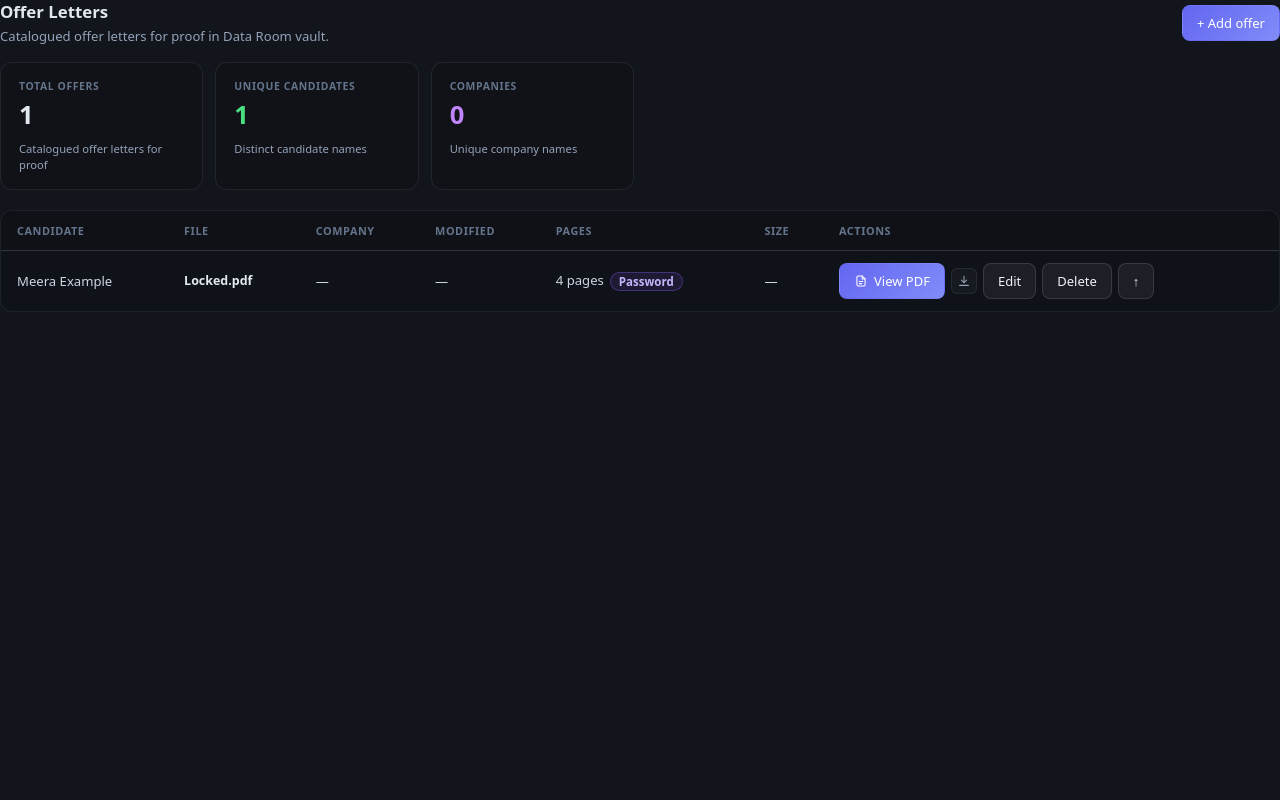
Test case: a PDF uploaded with a password › asks for it, says when it is wrong, and then shows every page
The width and height of the screenshot is (1280, 800).
Click the button with aria-label "View PDF for Meera Example" at (892, 280), box [839,262,945,298]
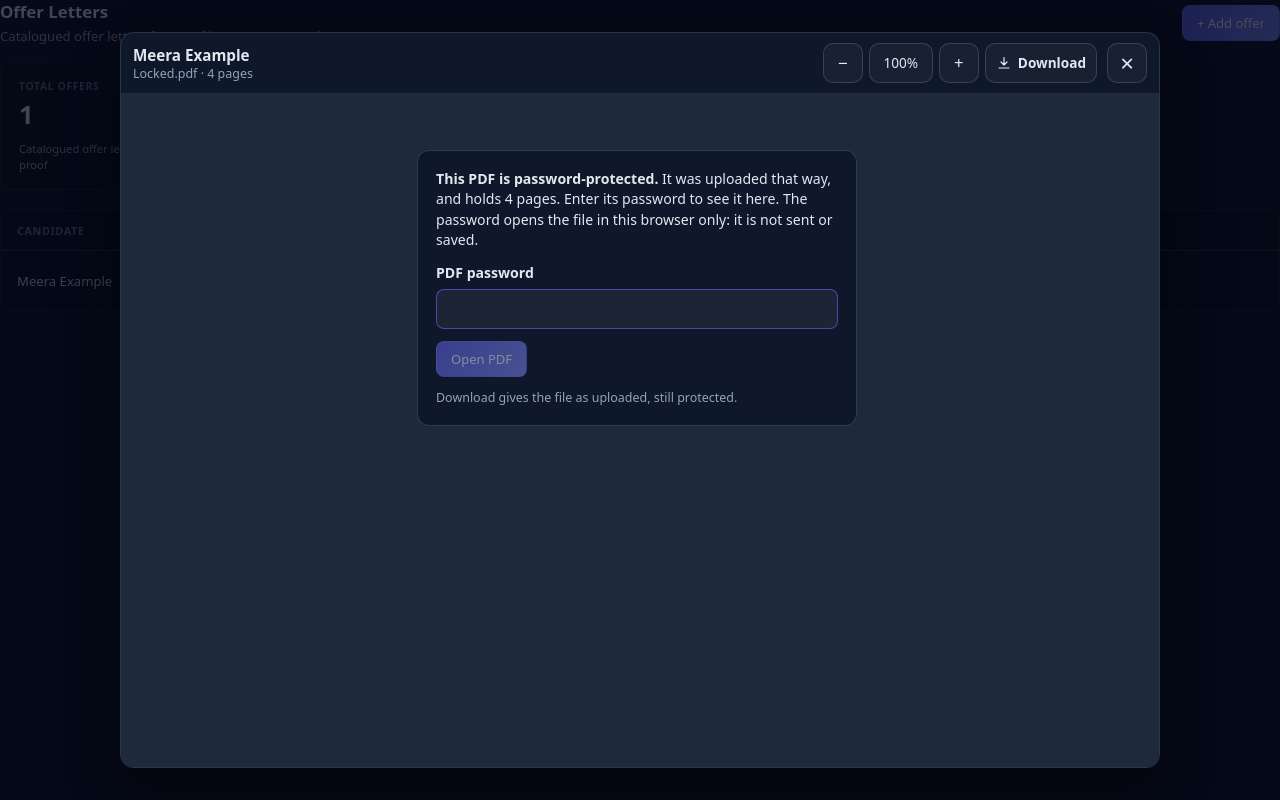
expect the dialog "Example" shows "This PDF is password-protected. It was uploaded that way, and holds 4 pages.": met
Press 0 in the password field labelled "PDF password", box [436,289,838,329]
Type "not-it" into the password field labelled "PDF password" at (637, 309), box [436,289,838,329]
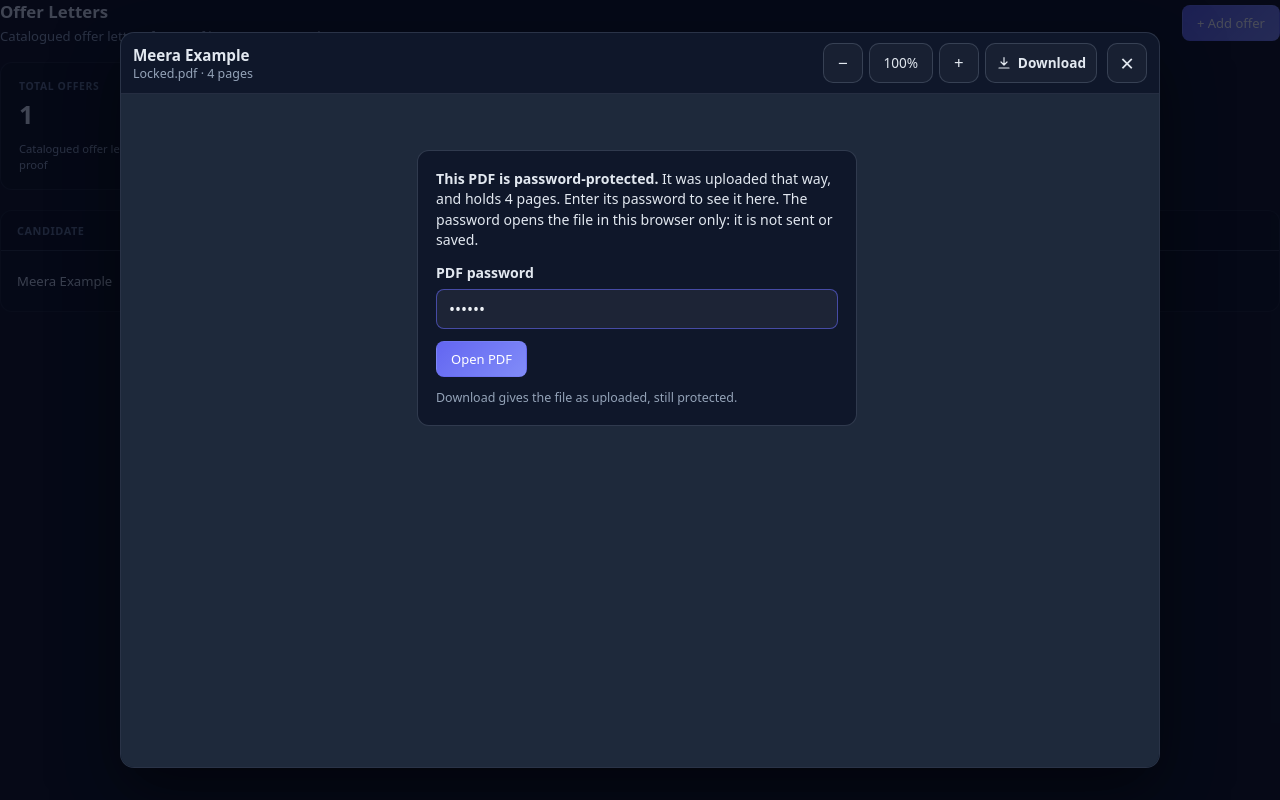
Submit the form named "PDF password", box [417,150,857,426]
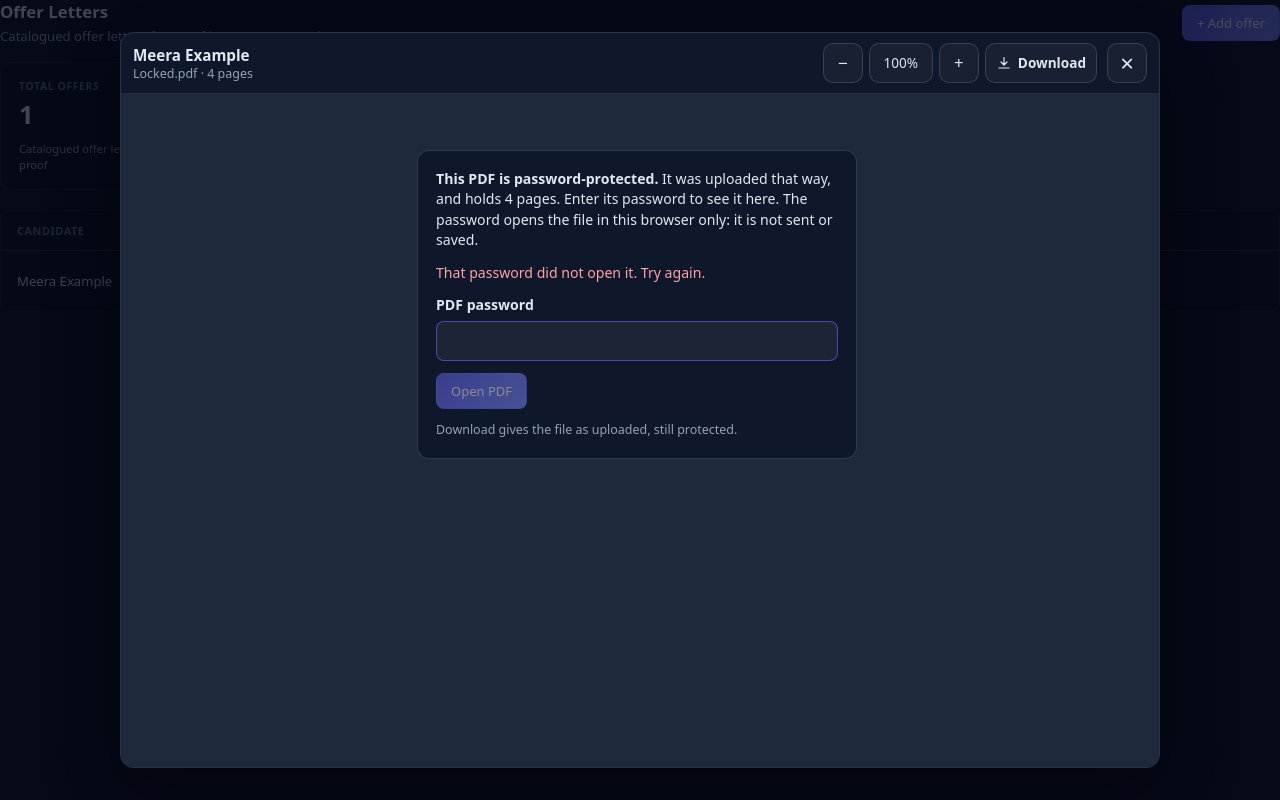
expect the text "That password did not open it. Try again." is shown: met, box [436,263,705,282]
expect the password field labelled "PDF password" is empty: met
Type "invented-pass" into the password field labelled "PDF password" at (637, 341), box [436,321,838,361]
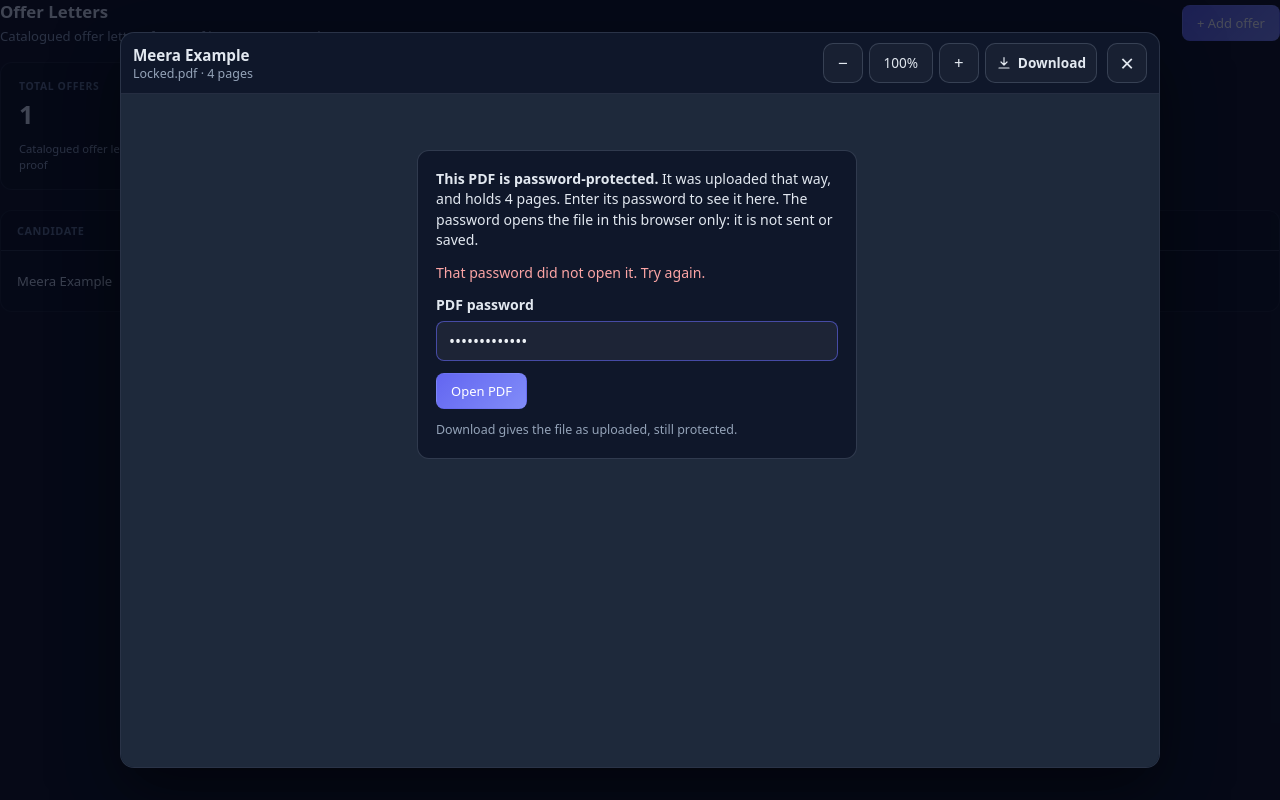
Submit the form named "PDF password", box [417,150,857,458]
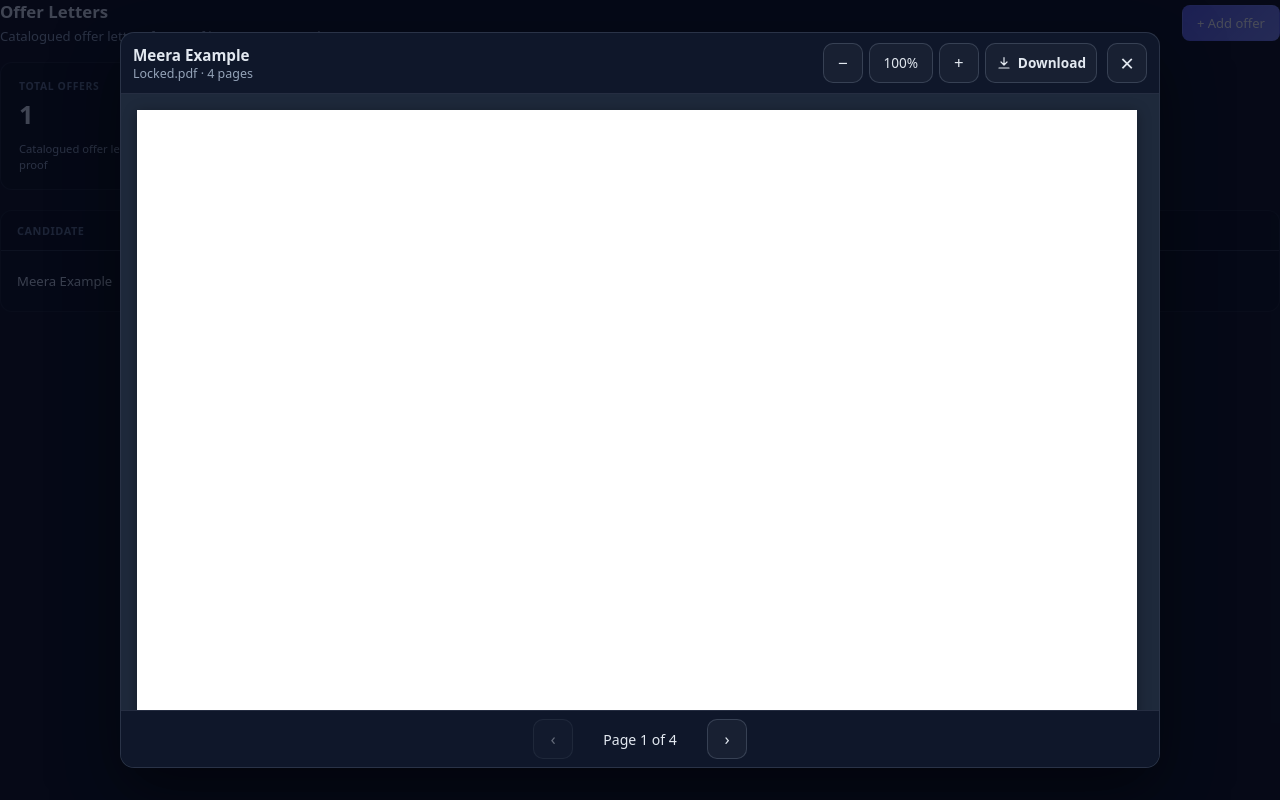
expect the text with class "offer-preview__page-of" reads "Page 1 of 4": met, box [603,730,677,748]
